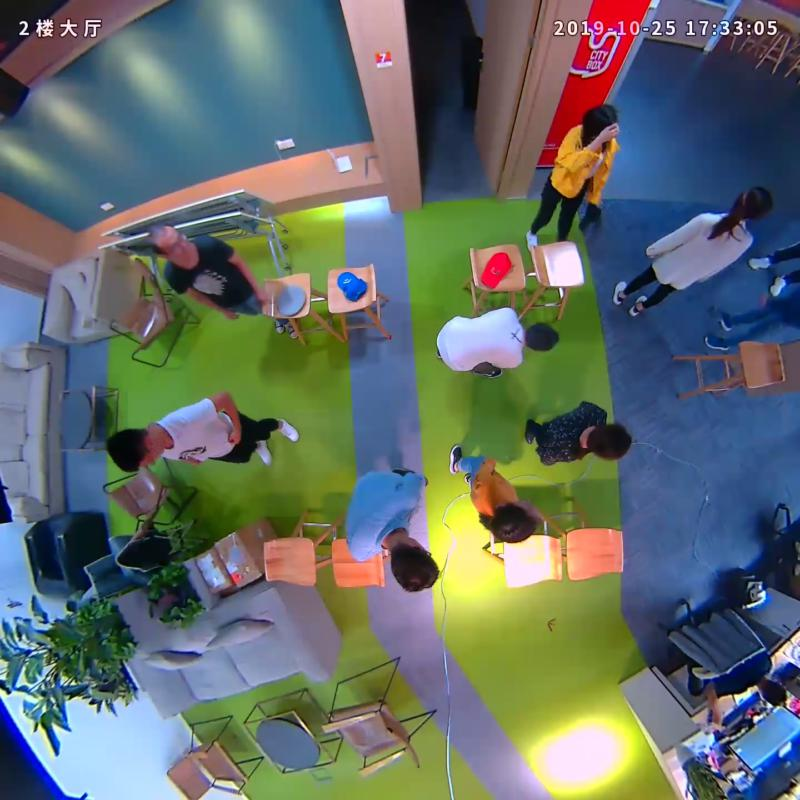head: (381, 531, 446, 595), (100, 420, 171, 477), (576, 414, 643, 467), (571, 96, 624, 159), (482, 499, 539, 552), (719, 181, 778, 231), (142, 218, 194, 270), (514, 313, 568, 363)
